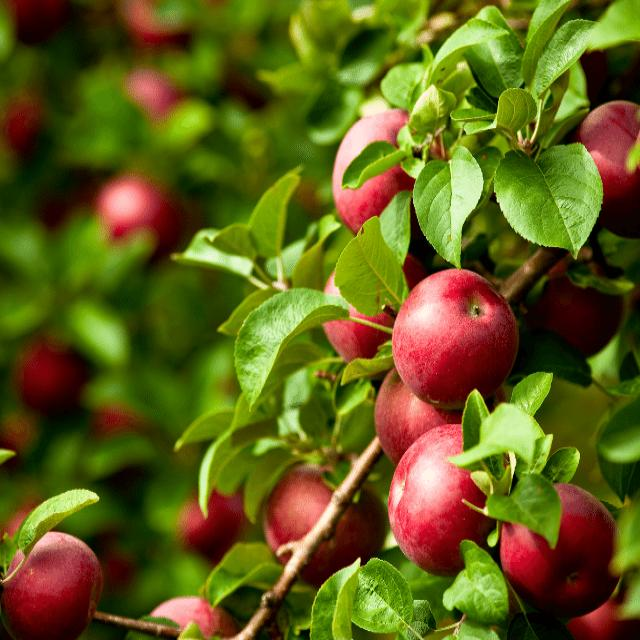100-_ripeness: (384, 418, 501, 578), (388, 272, 518, 414), (503, 469, 622, 622), (262, 456, 378, 579), (0, 532, 95, 633), (335, 111, 419, 220), (568, 101, 640, 218), (537, 255, 615, 362), (325, 263, 381, 371)
